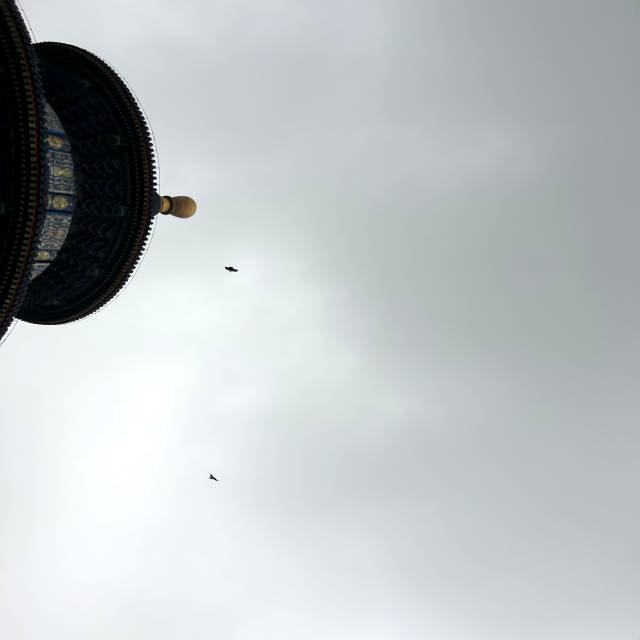bird: (218, 260, 243, 278), (204, 468, 224, 486)
